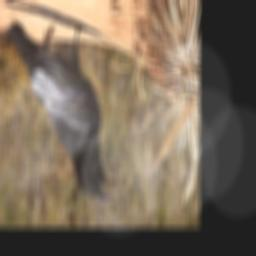Crow: (3, 21, 116, 201)
